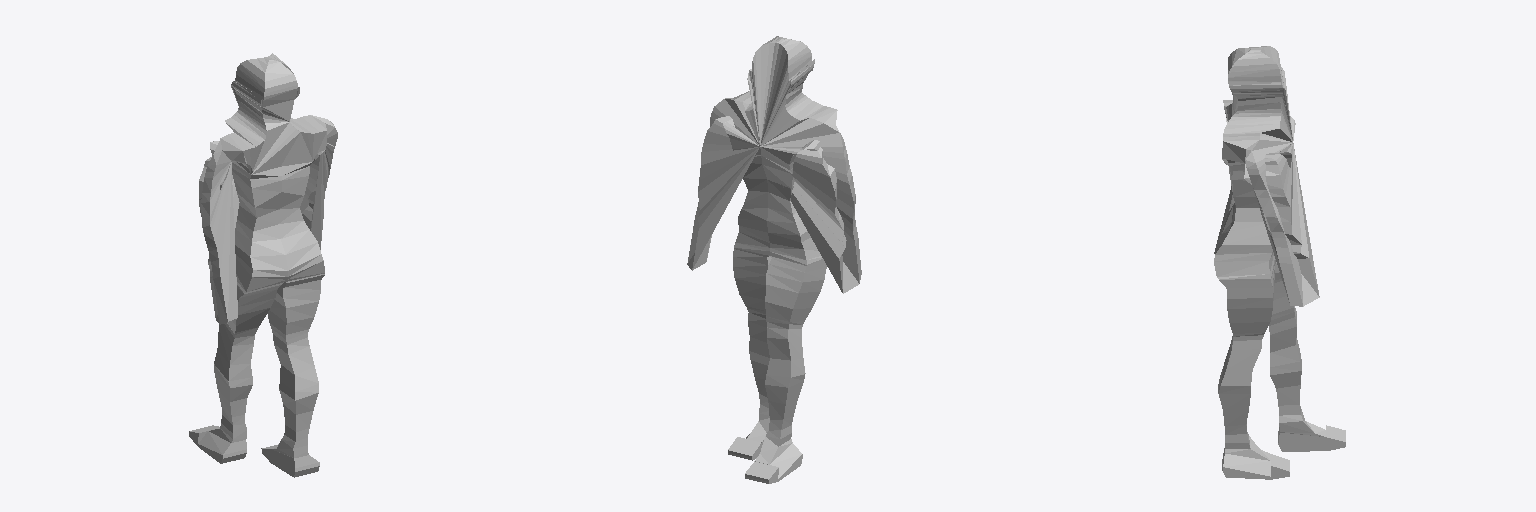
Rendered from woman_000007.obj.
3 renders of one model, left to right at view 1: azimuth 30°, elevation 25°; view 2: azimuth 150°, elevation 25°; view 3: azimuth 270°, elevation 25°, orthographic.
Visible parts, largest first — view 1: Cube_Cube.001; view 2: Cube_Cube.001; view 3: Cube_Cube.001.
Part boxes in pixels (bbox=[...]): Cube_Cube.001: bbox=[189, 53, 337, 477]; Cube_Cube.001: bbox=[687, 36, 861, 483]; Cube_Cube.001: bbox=[1214, 46, 1345, 479].
Size of the model in its own units: 3.52 by 9.95 by 2.89.